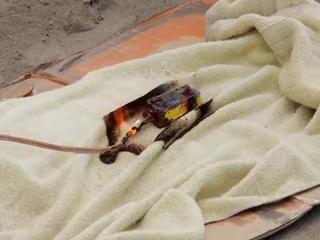Fire: (104, 99, 139, 146)
